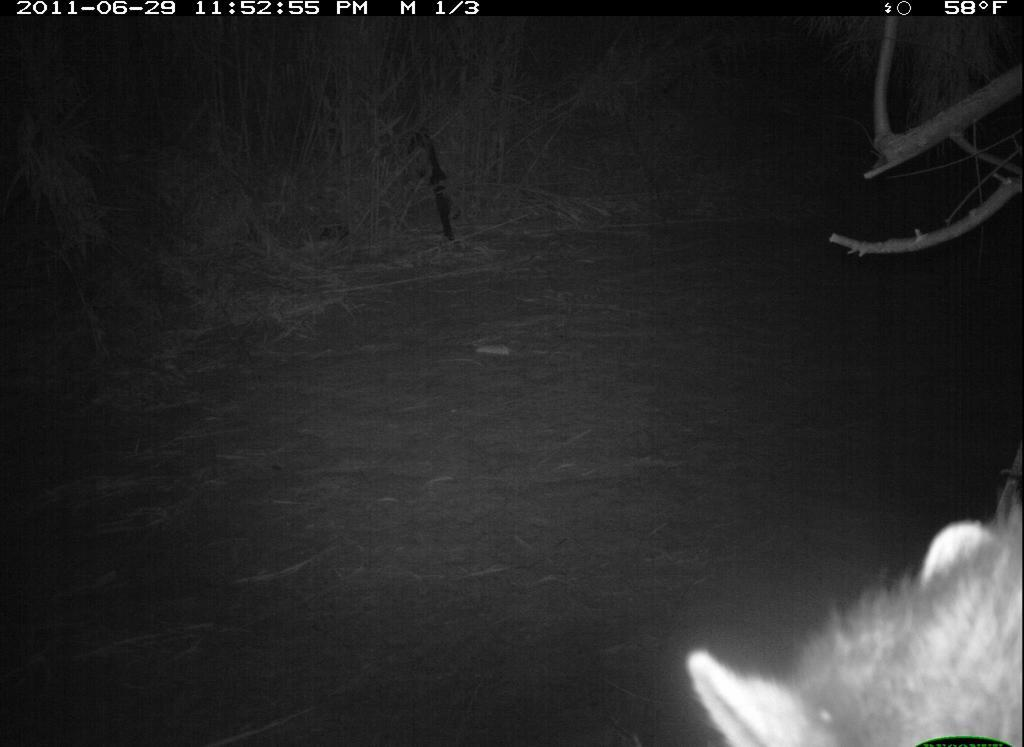raccoon: (664, 456, 1018, 744)
